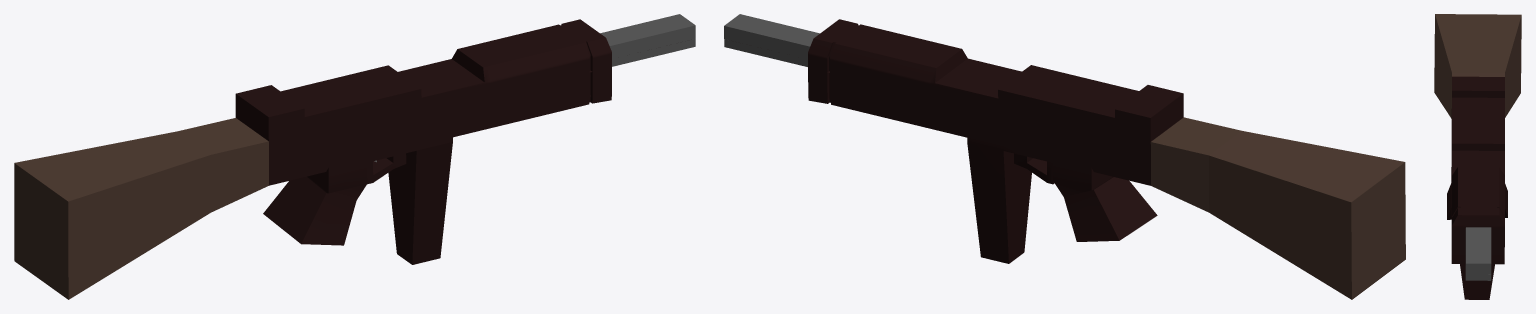
File: Rifle_GUN_colored.fbx
3 views of the same model, side by side, from view 1: azimuth 30°, elevation 25°; view 2: azimuth 150°, elevation 25°; view 3: azimuth 270°, elevation 25° (orthographic). The views are drawn at different scales.
Visible parts, largest first — view 1: Rifle_Gun1; view 2: Rifle_Gun1; view 3: Rifle_Gun1.
Part boxes in pixels (bbox=[...]): Rifle_Gun1: bbox=[14, 14, 695, 299]; Rifle_Gun1: bbox=[724, 14, 1405, 299]; Rifle_Gun1: bbox=[1434, 14, 1521, 299].
Size of the model in its own units: 4.23 by 1.19 by 0.6171.
